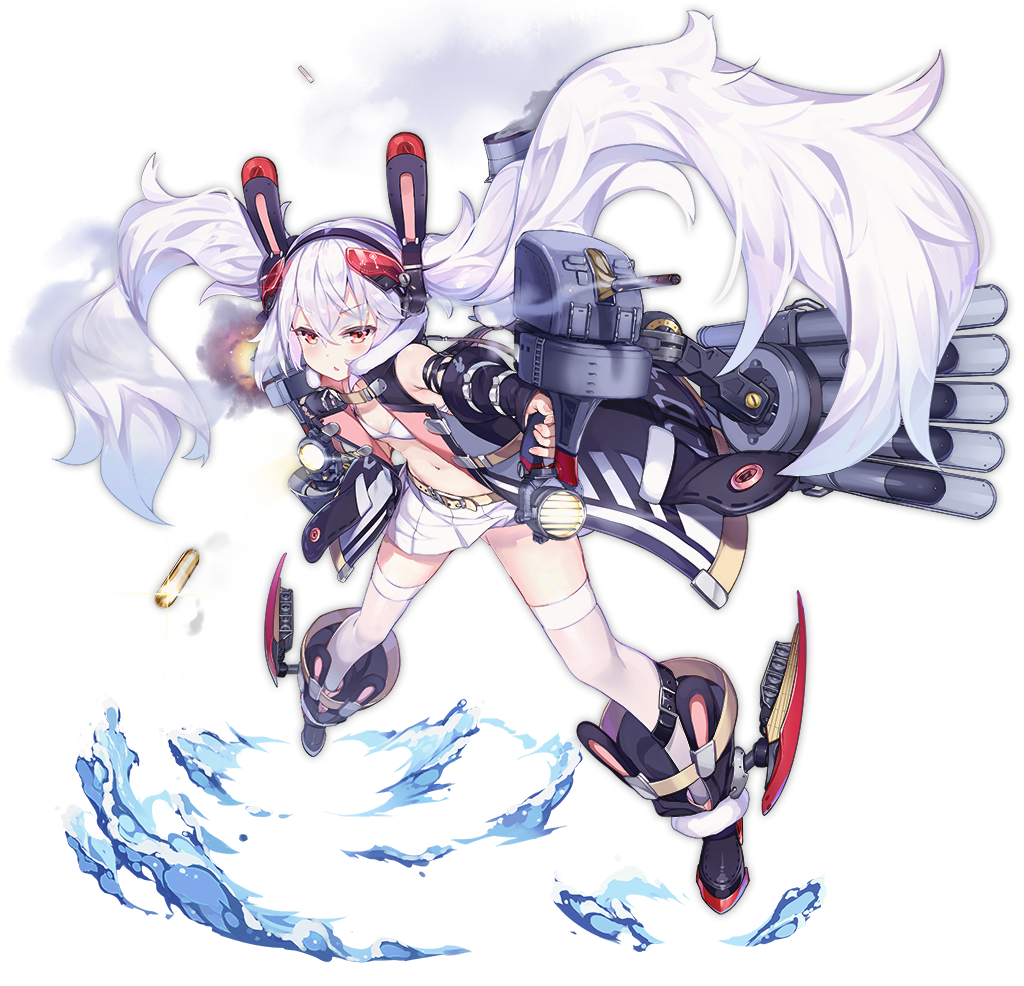person: (205, 202, 649, 985)
